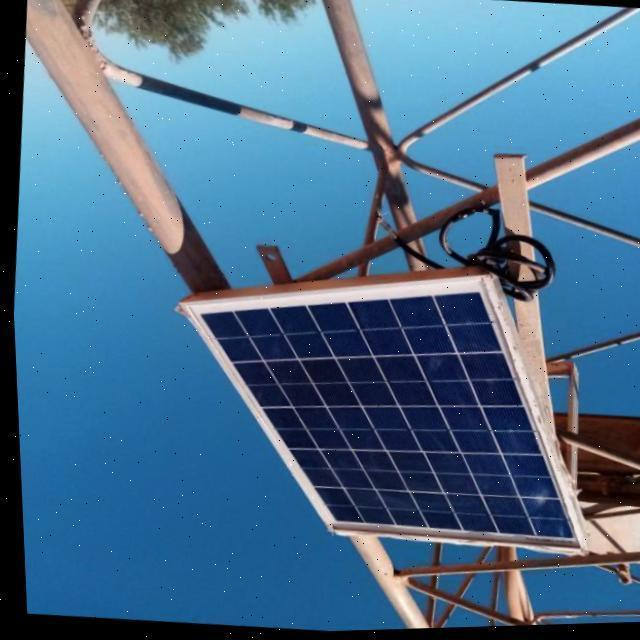Normal Solar Panel: (157, 251, 602, 564)
